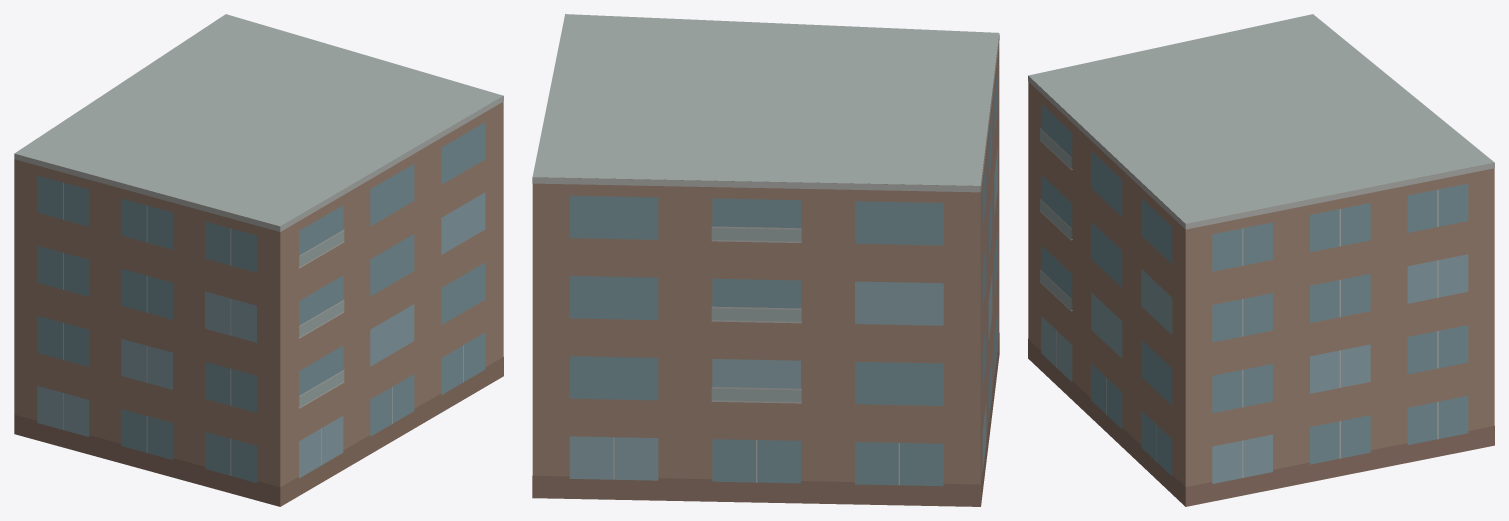
The model's file is residential-090b8fe3-3d86-4af1-b80d-235657d34496.glb.
3 views of the same model, side by side, from view 1: azimuth 30°, elevation 25°; view 2: azimuth 150°, elevation 25°; view 3: azimuth 270°, elevation 25° (orthographic). The views are drawn at different scales.
Visible parts, largest first — view 1: residential-090b8fe3-3d86-4af1-b80d-235657d34496.tmp; view 2: residential-090b8fe3-3d86-4af1-b80d-235657d34496.tmp; view 3: residential-090b8fe3-3d86-4af1-b80d-235657d34496.tmp.
Part boxes in pixels (x1=…): residential-090b8fe3-3d86-4af1-b80d-235657d34496.tmp: x1=14, y1=14, x2=503, y2=506; residential-090b8fe3-3d86-4af1-b80d-235657d34496.tmp: x1=532, y1=14, x2=999, y2=506; residential-090b8fe3-3d86-4af1-b80d-235657d34496.tmp: x1=1028, y1=14, x2=1494, y2=506.
Bounding box in the file's own units: 19.42 × 12.2 × 18.24.
